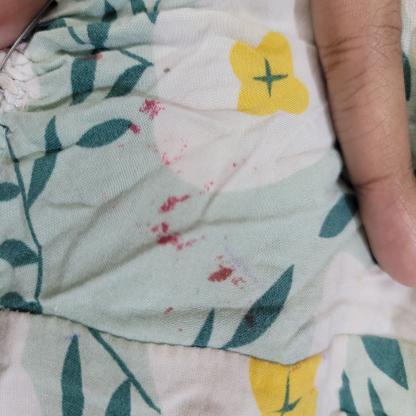spot: (136, 215, 212, 256), (155, 138, 201, 176), (148, 183, 194, 219), (204, 257, 249, 293), (123, 89, 168, 119), (161, 289, 191, 333), (106, 134, 158, 156), (223, 160, 265, 178), (204, 160, 218, 213), (236, 304, 264, 329), (118, 110, 142, 138), (82, 47, 108, 65), (158, 54, 177, 75)
